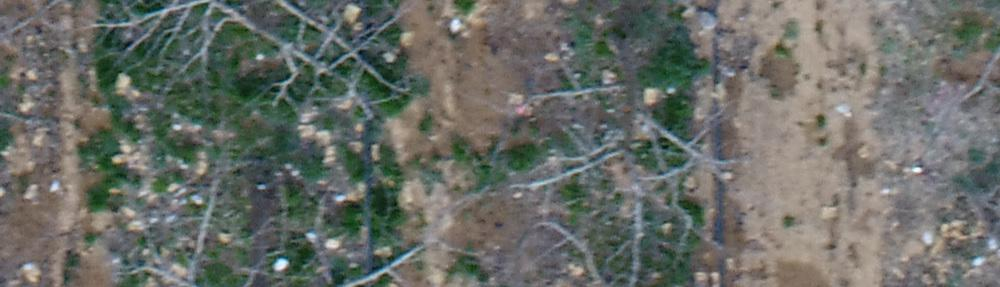apple: (454, 31, 769, 277)
